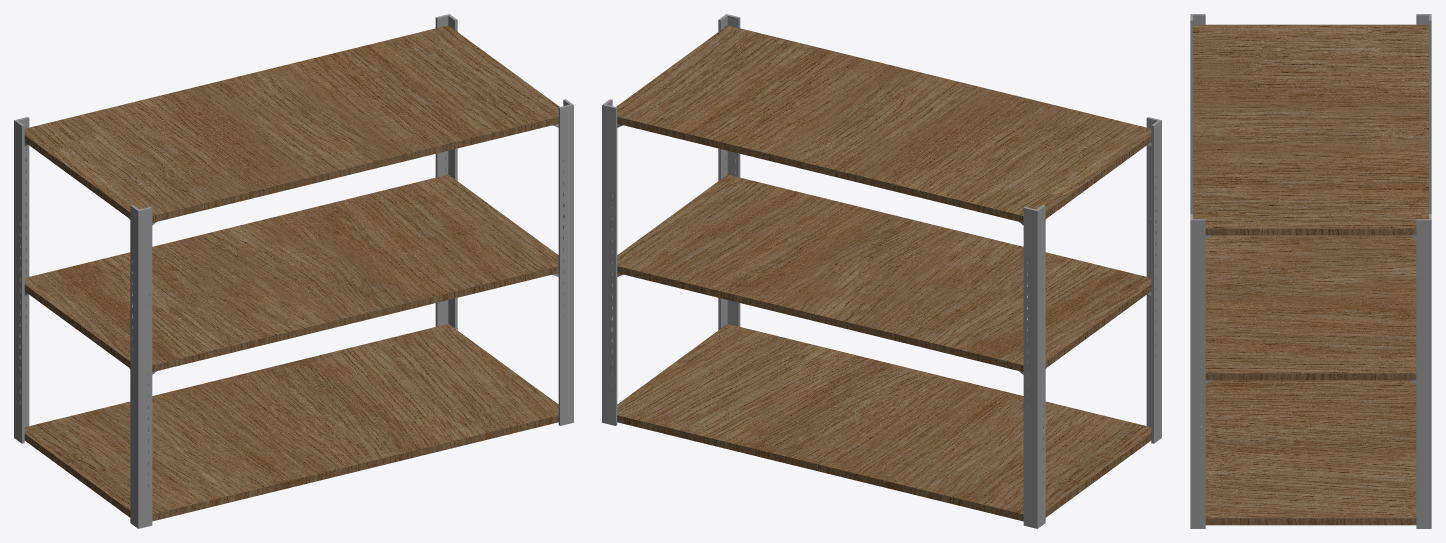
File: Shelf.fbx
3 views of the same model, side by side, from view 1: azimuth 30°, elevation 25°; view 2: azimuth 150°, elevation 25°; view 3: azimuth 270°, elevation 25° (orthographic). The views are drawn at different scales.
Parts seen in each view (by area): view 1: Shelf; view 2: Shelf; view 3: Shelf.
Boxes of the visible parts, x1,y1,x2,y2 form: Shelf: (14, 14, 573, 528); Shelf: (602, 14, 1161, 528); Shelf: (1190, 14, 1431, 528).
Size of the model in its own units: 30.86 by 21.51 by 15.26.
